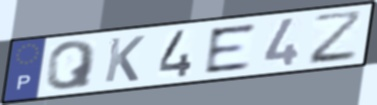4: (261, 17, 301, 70), (157, 28, 194, 79)
E: (203, 21, 258, 76)
K: (102, 34, 147, 85)
Q: (44, 38, 99, 92)
Z: (309, 8, 365, 67)
